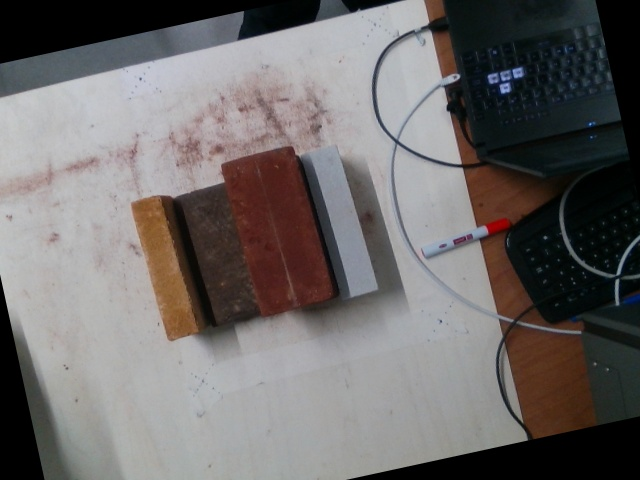brick: (221, 144, 332, 314), (171, 183, 260, 330)
brick-side: (302, 140, 379, 298), (127, 193, 198, 343)
